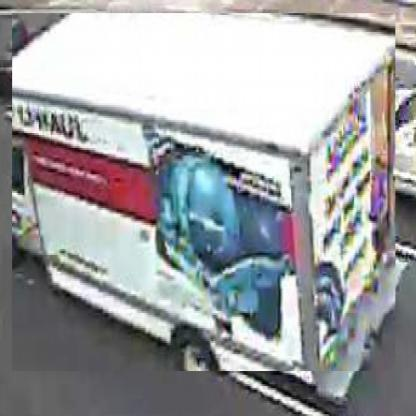truck: (13, 14, 398, 374)
